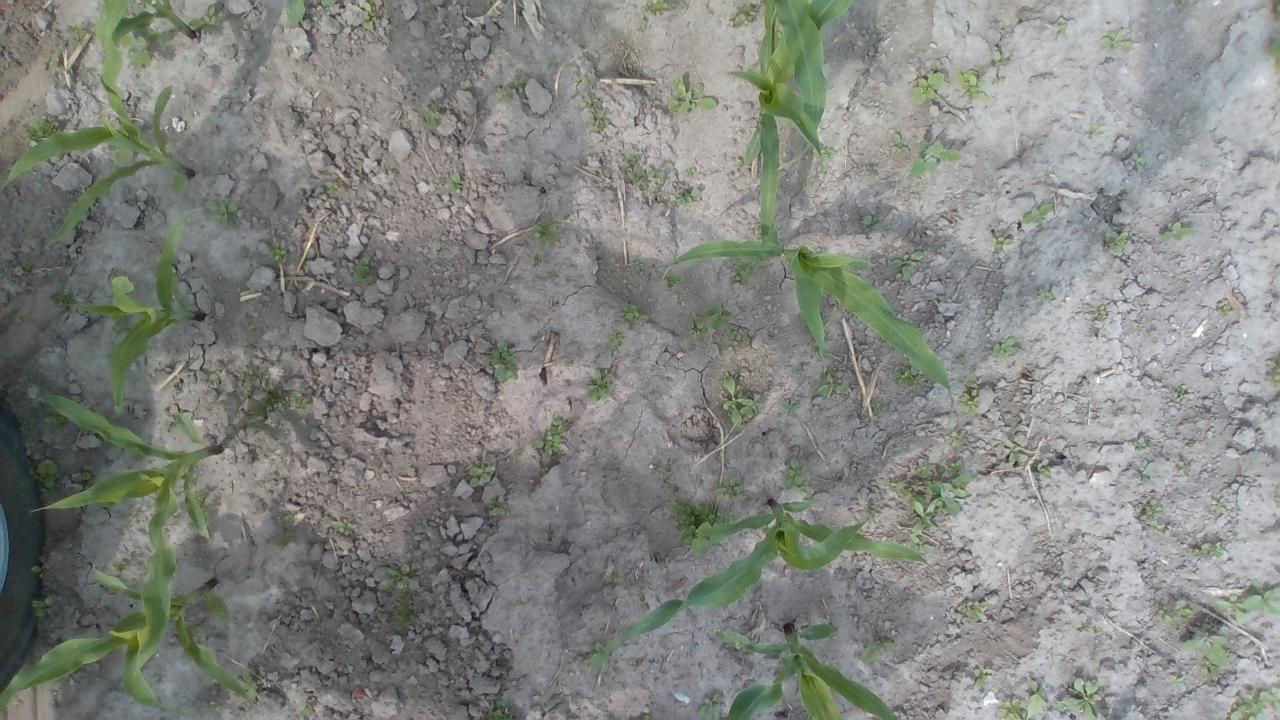Maize: (26, 388, 225, 673), (607, 495, 930, 652), (658, 244, 953, 404), (2, 567, 254, 717), (6, 76, 193, 246), (731, 0, 852, 248), (63, 212, 206, 412), (716, 625, 900, 720), (98, 0, 202, 94), (762, 2, 827, 127)
Weeds: (891, 457, 972, 554), (1217, 580, 1280, 626), (672, 500, 722, 557), (720, 375, 763, 424), (912, 137, 962, 177), (668, 75, 716, 114), (1059, 678, 1103, 720), (1226, 687, 1280, 720), (1006, 440, 1053, 475), (1182, 632, 1230, 666), (535, 417, 571, 458), (482, 342, 518, 383), (890, 248, 924, 286), (911, 68, 944, 105), (1140, 490, 1167, 533), (392, 590, 417, 636), (582, 365, 612, 403), (1026, 679, 1053, 720), (378, 564, 417, 592), (249, 388, 282, 420), (955, 67, 986, 101), (785, 456, 812, 492), (588, 638, 618, 670), (959, 376, 982, 417), (704, 302, 734, 332), (865, 634, 895, 664), (206, 200, 240, 226), (715, 474, 746, 502), (22, 116, 58, 140), (1102, 29, 1134, 55), (583, 94, 607, 128), (536, 217, 568, 242), (1158, 221, 1194, 243), (819, 369, 845, 399), (1024, 202, 1054, 228), (992, 336, 1019, 364), (484, 697, 516, 720), (34, 460, 59, 488), (466, 465, 494, 490), (621, 305, 650, 329), (730, 3, 760, 26), (698, 692, 722, 720), (896, 367, 924, 389), (190, 5, 218, 27), (286, 0, 308, 28), (1190, 539, 1224, 557), (1105, 232, 1130, 256), (947, 428, 974, 450), (734, 262, 760, 284), (724, 326, 750, 348), (999, 698, 1024, 720), (968, 602, 992, 624), (890, 132, 914, 154), (46, 50, 68, 74), (994, 52, 1010, 84), (976, 665, 994, 693), (32, 592, 52, 616), (69, 22, 88, 47), (1266, 356, 1280, 389), (129, 50, 151, 70), (624, 153, 640, 180), (1268, 39, 1280, 75), (1140, 461, 1157, 486), (356, 264, 376, 285), (425, 100, 439, 130), (677, 189, 703, 205), (332, 518, 358, 534), (642, 1, 673, 14), (490, 497, 510, 517), (862, 212, 882, 232), (816, 144, 838, 162), (1030, 284, 1052, 302), (510, 68, 528, 90), (688, 321, 707, 341), (1174, 598, 1193, 618), (362, 4, 376, 31), (1176, 382, 1194, 402), (32, 556, 48, 578), (865, 510, 884, 528), (1158, 609, 1174, 630), (52, 290, 73, 306), (783, 398, 801, 416), (1168, 674, 1186, 692), (446, 172, 462, 192), (872, 400, 888, 420), (112, 556, 132, 572), (995, 235, 1015, 251), (606, 332, 625, 348), (1211, 496, 1227, 515), (1129, 153, 1145, 172), (1091, 305, 1108, 322), (1200, 663, 1216, 681), (1176, 461, 1194, 477), (50, 411, 66, 429), (274, 532, 292, 548), (1088, 122, 1104, 140), (268, 247, 288, 260), (667, 276, 683, 292), (496, 82, 510, 100), (1082, 624, 1102, 636), (252, 422, 272, 434), (1270, 0, 1280, 24), (294, 395, 308, 412), (1146, 329, 1161, 344), (1054, 24, 1070, 38), (280, 516, 295, 530), (122, 35, 136, 50), (608, 572, 624, 585), (302, 703, 316, 716), (23, 261, 36, 275), (956, 355, 970, 368), (584, 70, 599, 82), (210, 372, 222, 387), (632, 260, 646, 272), (1134, 436, 1145, 450), (1217, 306, 1231, 317), (321, 0, 340, 7), (534, 254, 544, 267), (330, 180, 343, 190), (1185, 439, 1196, 450), (546, 270, 558, 280), (684, 168, 696, 176), (1174, 0, 1189, 6), (211, 701, 221, 709), (1136, 657, 1144, 665)
